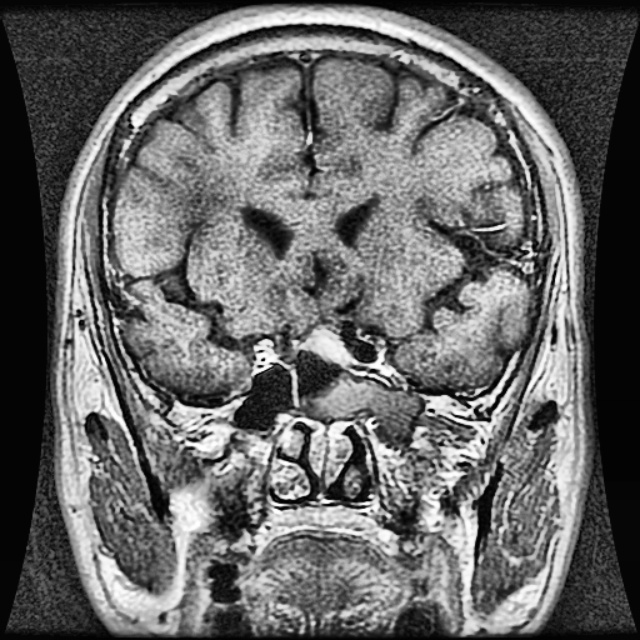Pituitary: (305, 330, 350, 365)
